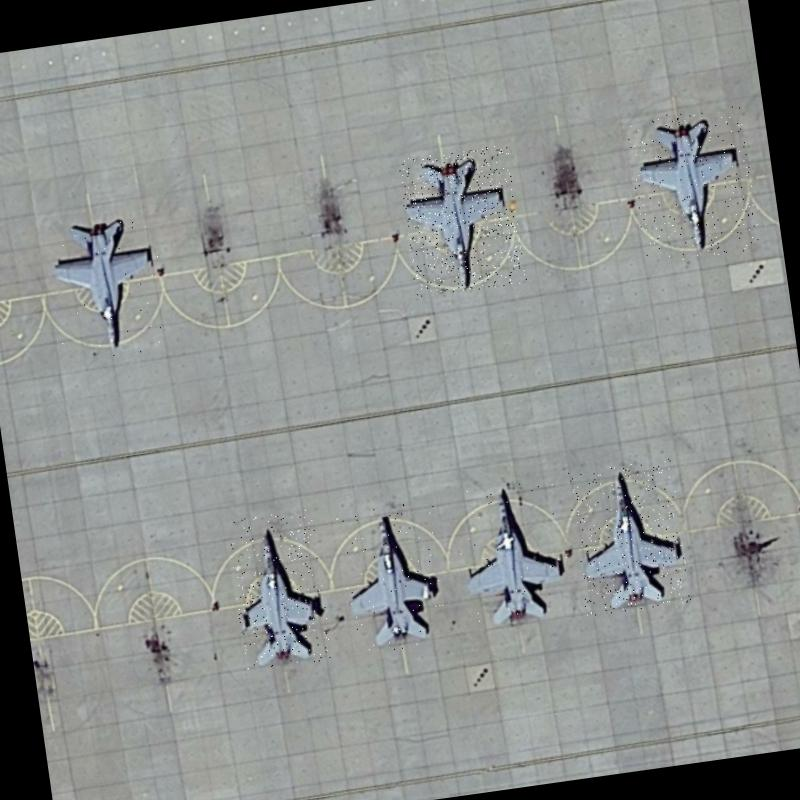A16: (626, 104, 760, 264), (450, 470, 578, 632), (42, 205, 170, 362), (397, 144, 526, 298), (566, 456, 690, 616), (335, 499, 453, 654), (224, 509, 332, 672)
